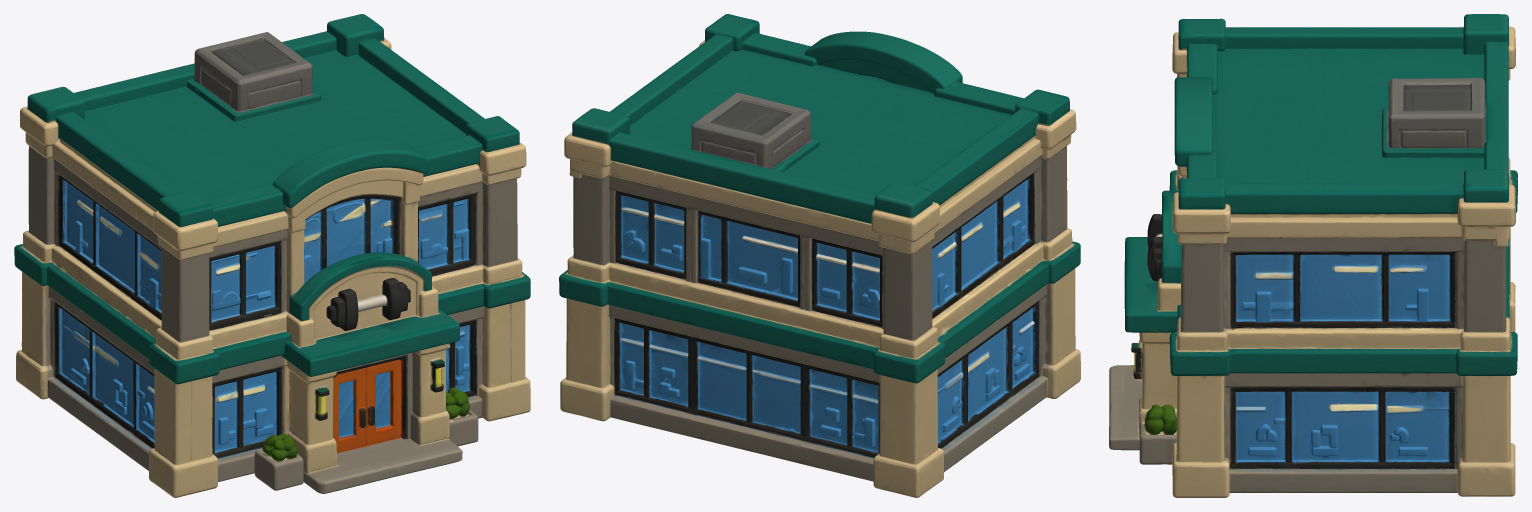
File: Gym.glb
The picture shows the model from 3 angles, left to right: view 1: azimuth 30°, elevation 25°; view 2: azimuth 150°, elevation 25°; view 3: azimuth 270°, elevation 25°; orthographic projection. The views are drawn at different scales.
Visible parts, largest first — view 1: tripo_node_25ed71c4-6690-4b45-af1f-a17015a374cb; view 2: tripo_node_25ed71c4-6690-4b45-af1f-a17015a374cb; view 3: tripo_node_25ed71c4-6690-4b45-af1f-a17015a374cb.
Part boxes in pixels (<box>): tripo_node_25ed71c4-6690-4b45-af1f-a17015a374cb: <box>14,14,530,497</box>; tripo_node_25ed71c4-6690-4b45-af1f-a17015a374cb: <box>559,14,1080,497</box>; tripo_node_25ed71c4-6690-4b45-af1f-a17015a374cb: <box>1109,14,1517,497</box>.
Bounding box in the file's own units: 0.9799 × 0.8017 × 0.9097.
Materials: 1 (1 with a texture image).
